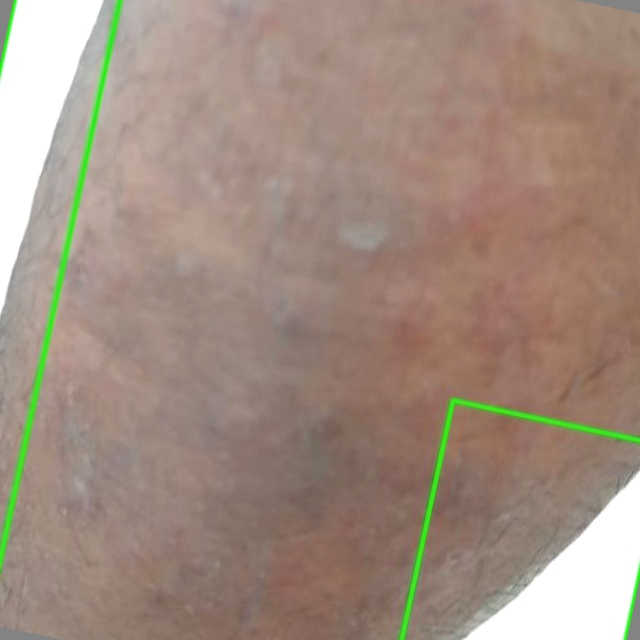Tinea Corporis: (400, 401, 639, 639)
